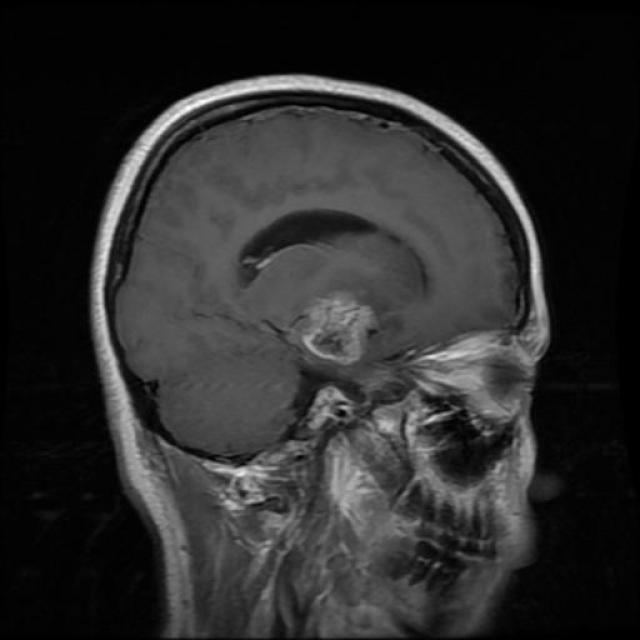glioma: (304, 290, 388, 369)
